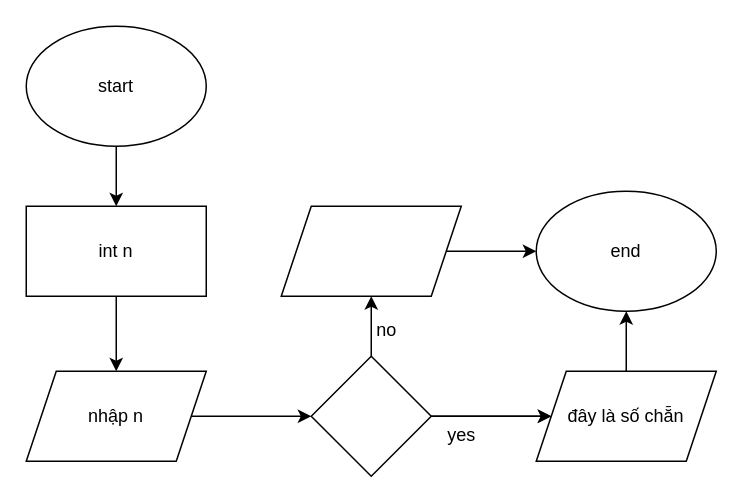
The diagram is 743 pixels wide and 503 high, and some of its shapes have lost their labels. Each missing label, with the centre of its shape:
"n % 2 == 0?" goes at pixel 370 415.
"đây là số lẻ" goes at pixel 370 250.
